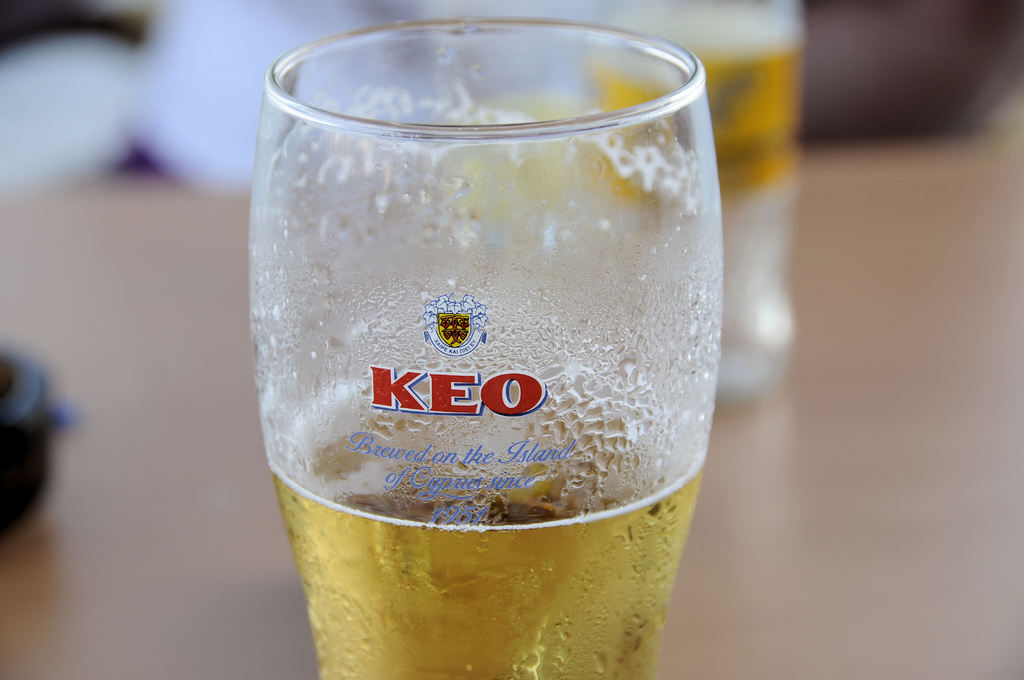Beer: (256, 8, 709, 679)
